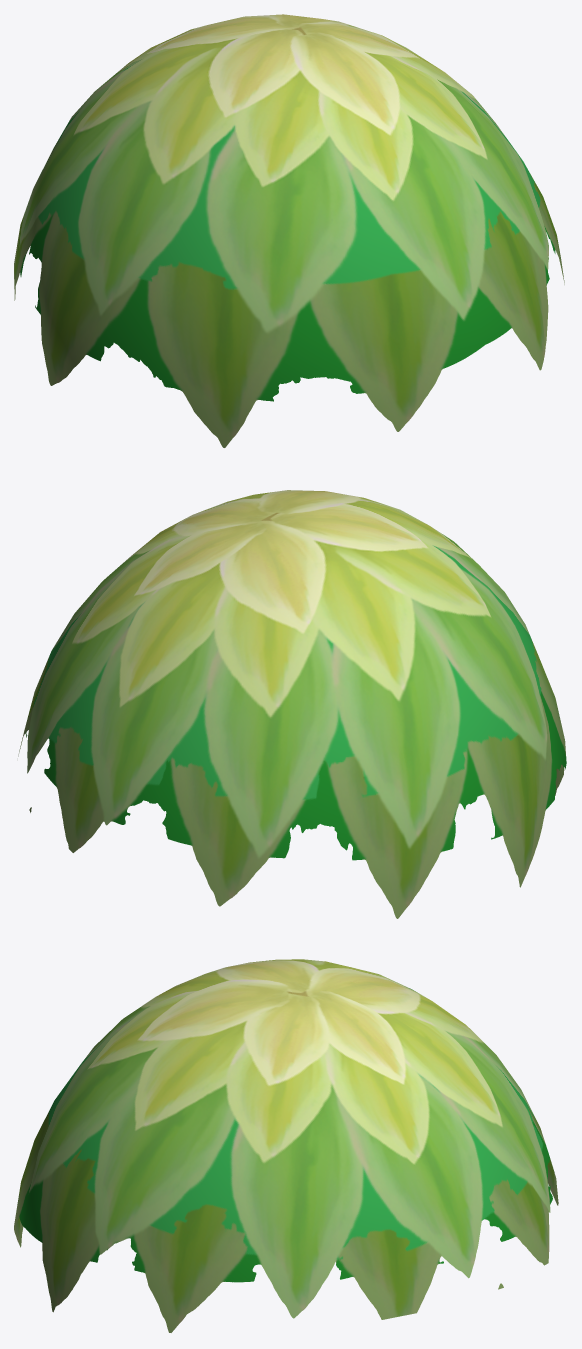
The model's file is Bush_Leaves_4.fbx.
3 renders of one model, top to bottom at view 1: azimuth 30°, elevation 25°; view 2: azimuth 150°, elevation 25°; view 3: azimuth 270°, elevation 25°, orthographic. The views are drawn at different scales.
Visible parts, largest first — view 1: pSphere8; view 2: pSphere8; view 3: pSphere8.
Boxes of the visible parts, x1,y1,x2,y2 form: pSphere8: (14,14,564,447); pSphere8: (18,490,566,918); pSphere8: (14,959,558,1332).
Bounding box in the file's own units: 78.97 × 50.76 × 83.7.
